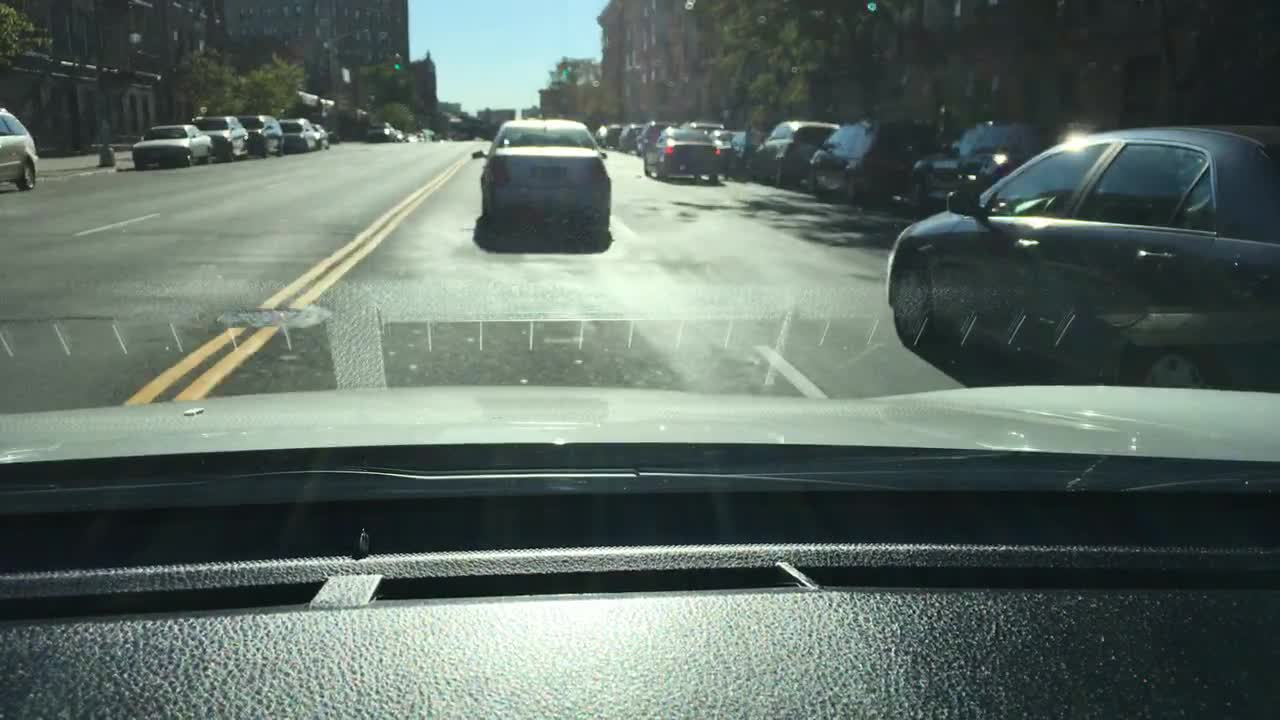car: (884, 121, 1278, 389), (469, 115, 612, 243), (910, 120, 1060, 217), (805, 117, 936, 207), (755, 118, 840, 188), (642, 122, 732, 184), (131, 122, 216, 171), (0, 105, 39, 192), (190, 112, 250, 162), (236, 112, 286, 156), (725, 130, 765, 182), (635, 121, 680, 157), (278, 117, 319, 154), (707, 128, 733, 173), (617, 123, 644, 154), (367, 119, 399, 144), (594, 121, 623, 148), (687, 121, 725, 140), (311, 121, 331, 148), (422, 128, 437, 141), (395, 128, 409, 141), (405, 130, 418, 143), (414, 129, 426, 141)
traffic light: (391, 54, 403, 72), (557, 61, 570, 74)
